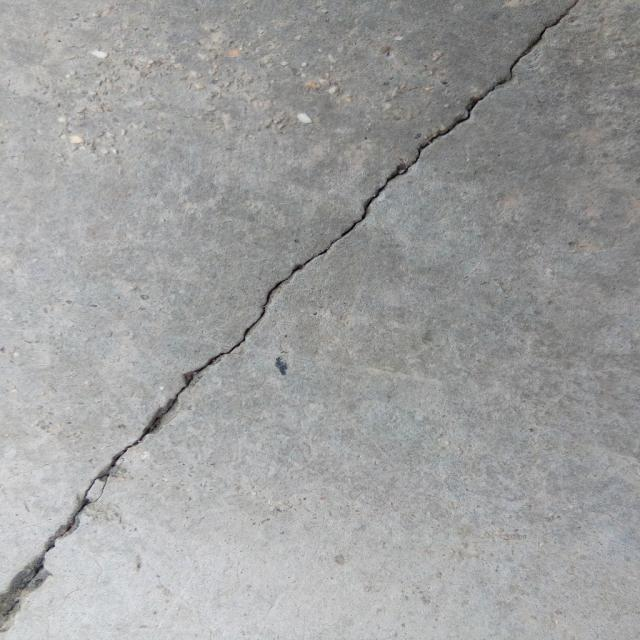cracks: (0, 0, 609, 628)
